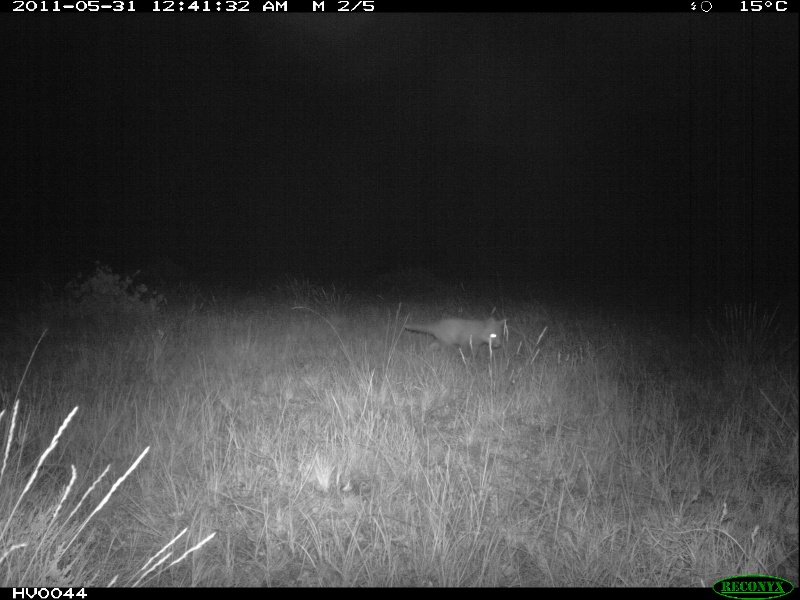fox: (389, 308, 509, 355)
